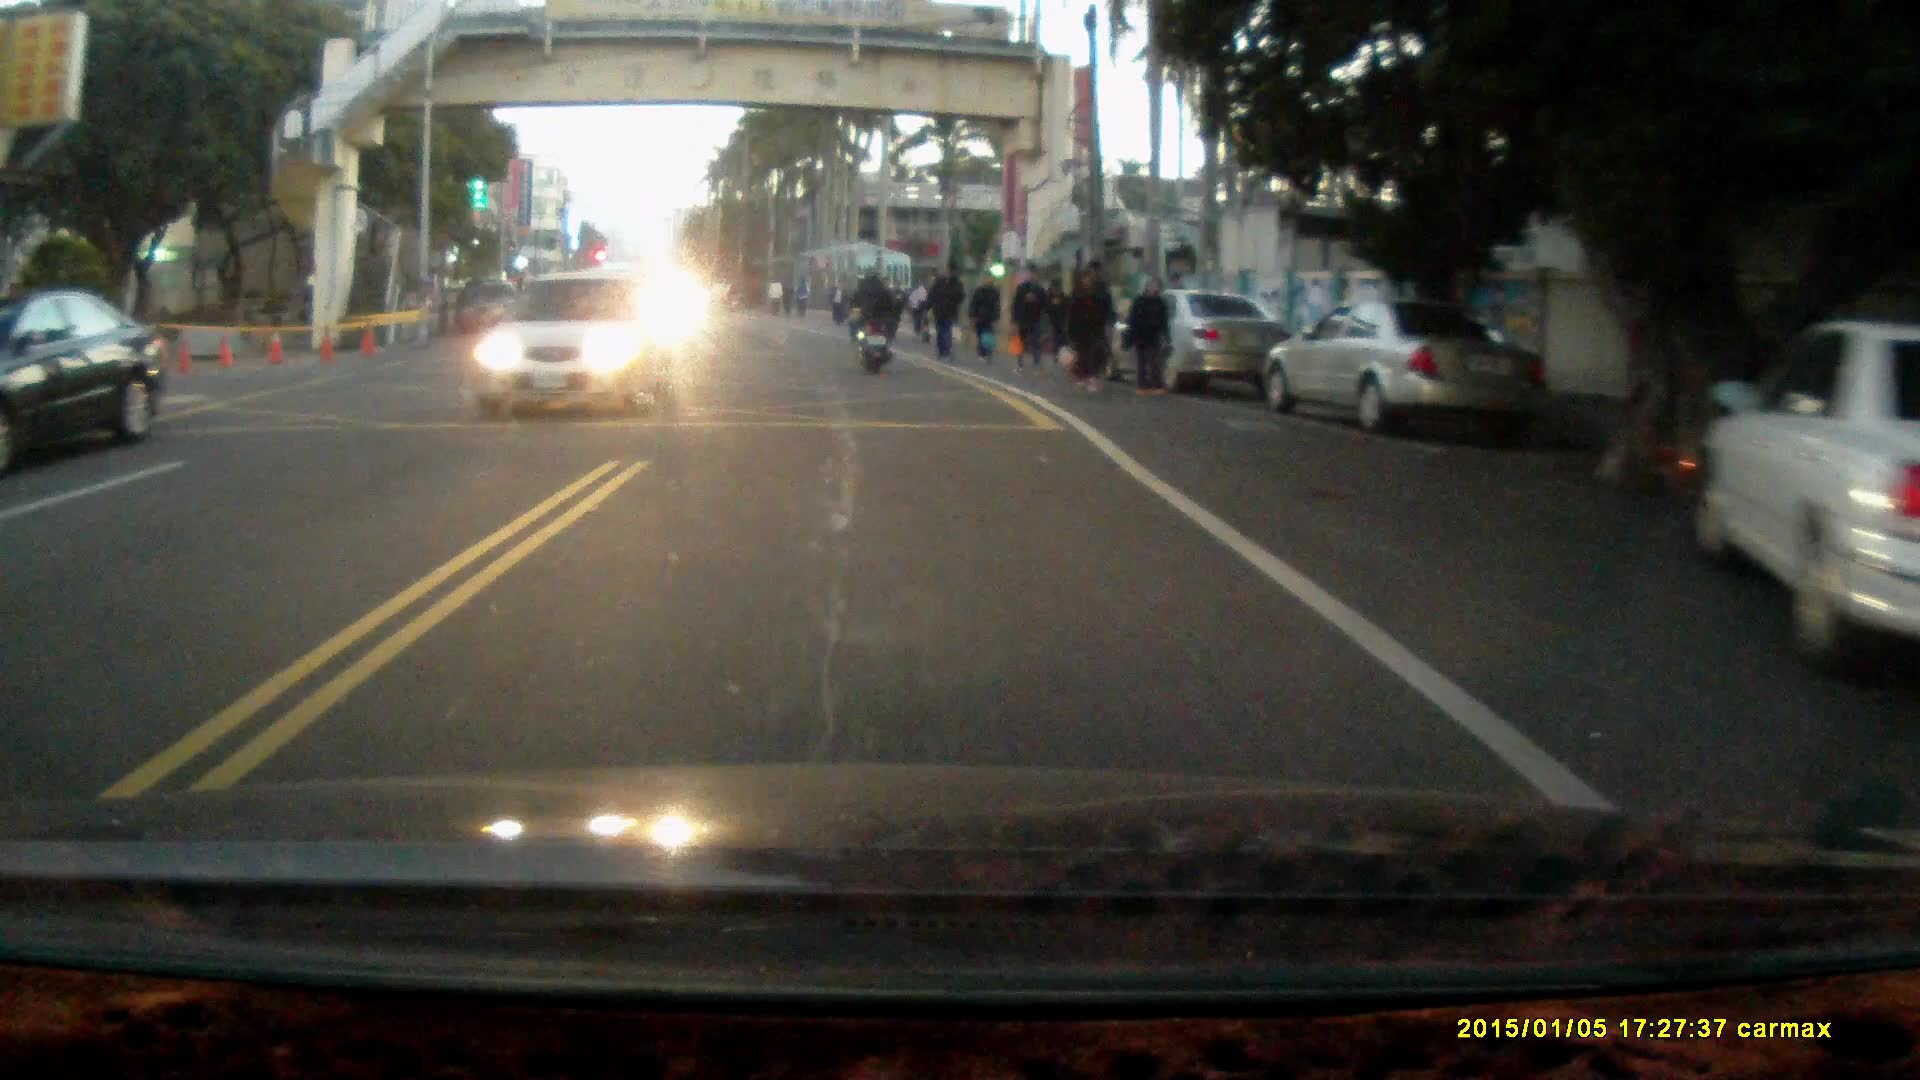pedestrian: (1126, 275, 1174, 403), (1065, 269, 1107, 394), (1008, 264, 1047, 376), (924, 264, 964, 365), (965, 273, 1003, 369)
rider: (845, 267, 900, 378)
vehicle: (1692, 321, 1920, 684), (1261, 298, 1554, 439), (463, 272, 681, 424), (1, 296, 181, 465), (1095, 293, 1298, 396)
